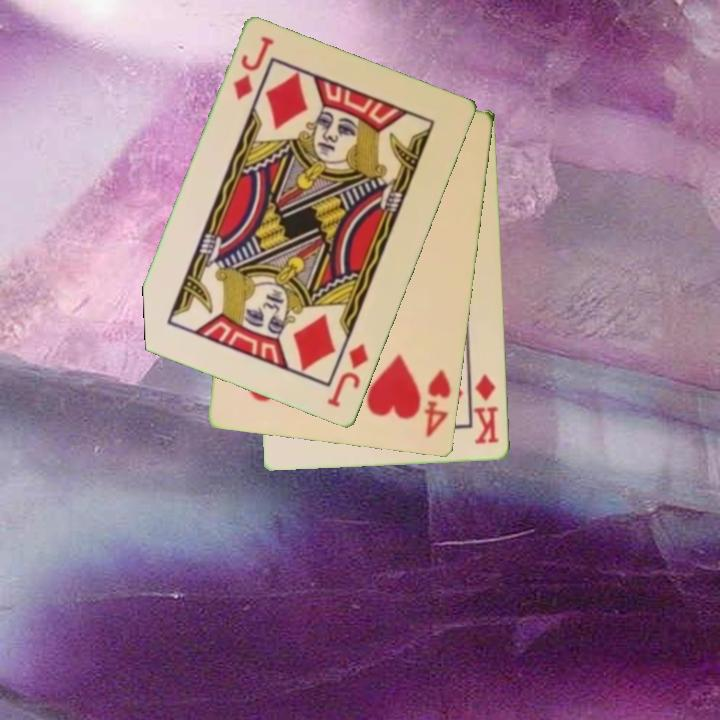4h: (421, 366, 454, 441)
Jd: (324, 340, 372, 411), (229, 33, 277, 104)
Kd: (470, 370, 502, 448)
